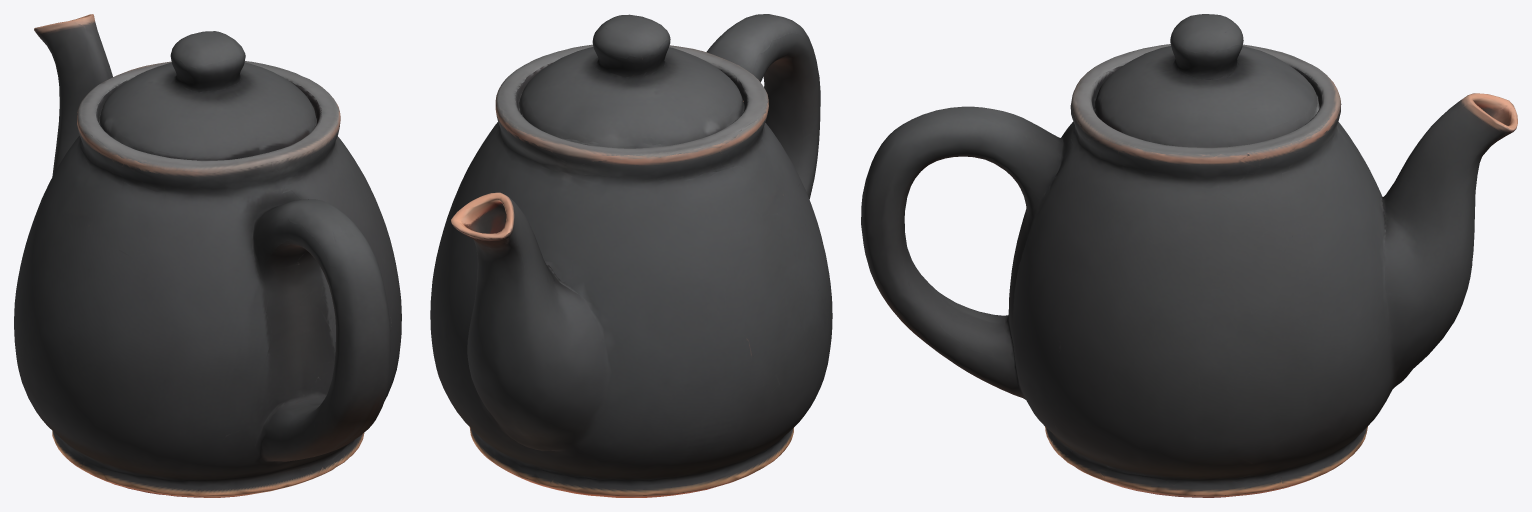
The model's file is special_UtahTeapotGray.glb.
The picture shows the model from 3 angles, left to right: view 1: azimuth 30°, elevation 25°; view 2: azimuth 150°, elevation 25°; view 3: azimuth 270°, elevation 25°; orthographic projection. The views are drawn at different scales.
Visible parts, largest first — view 1: world; view 2: world; view 3: world.
Part boxes in pixels (box(x1,y1,x2,y2)): world: box(14, 14, 401, 497); world: box(430, 14, 832, 497); world: box(861, 14, 1517, 497).
Size of the model in its own units: 0.6123 by 0.6953 by 1.
Materials: 1 (1 with a texture image).
